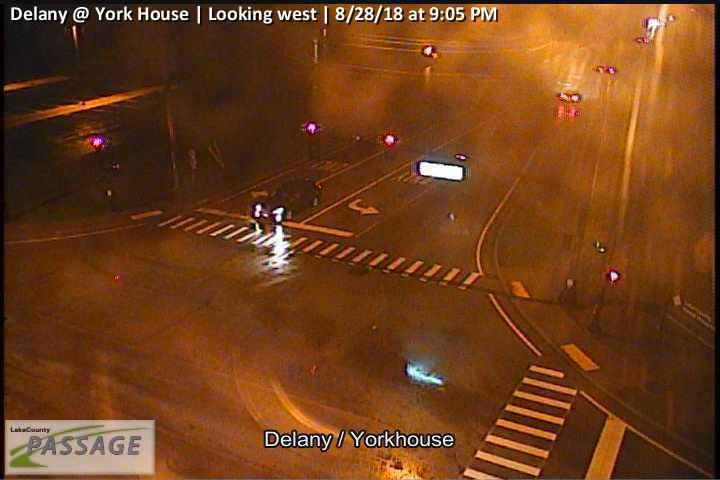SUV: (250, 177, 322, 221)
